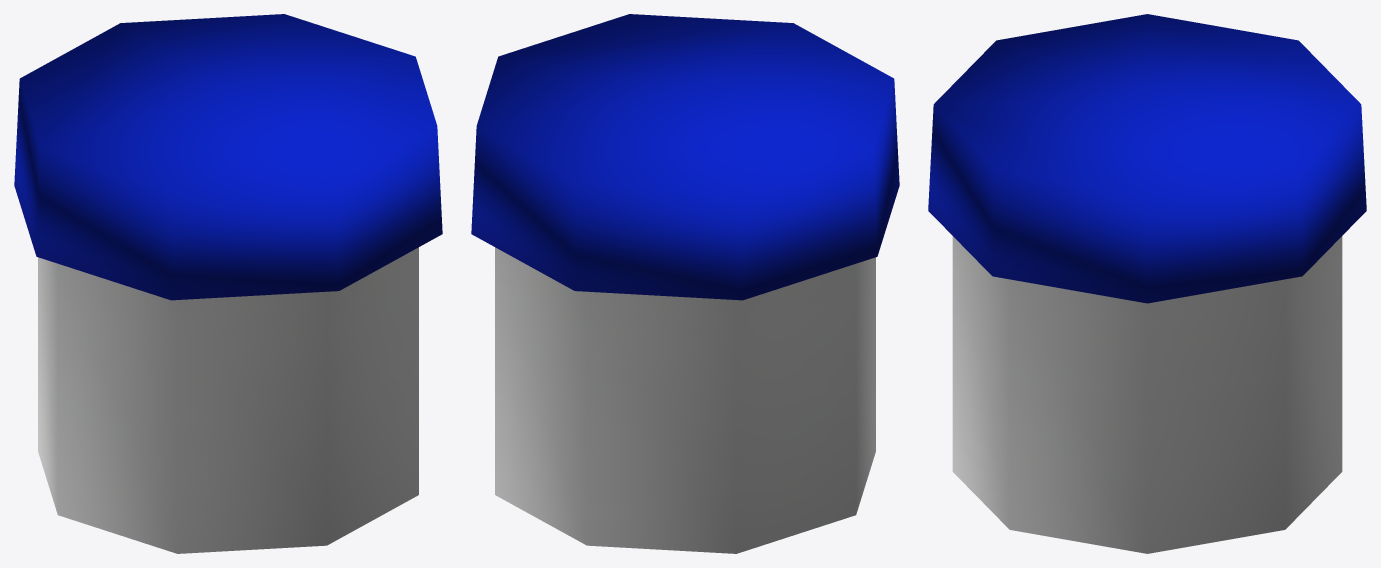
Rendered from PoteRemedio.fbx.
3 renders of one model, left to right at view 1: azimuth 30°, elevation 25°; view 2: azimuth 150°, elevation 25°; view 3: azimuth 270°, elevation 25°, orthographic.
Parts seen in each view (by area): view 1: PoteRemedio; view 2: PoteRemedio; view 3: PoteRemedio.
Boxes of the visible parts, x1,y1,x2,y2 form: PoteRemedio: (14, 14, 442, 553); PoteRemedio: (471, 14, 899, 553); PoteRemedio: (928, 14, 1366, 553).
Size of the model in its own units: 26.38 by 24.91 by 26.38.
Materials: 1 (1 with a texture image).
